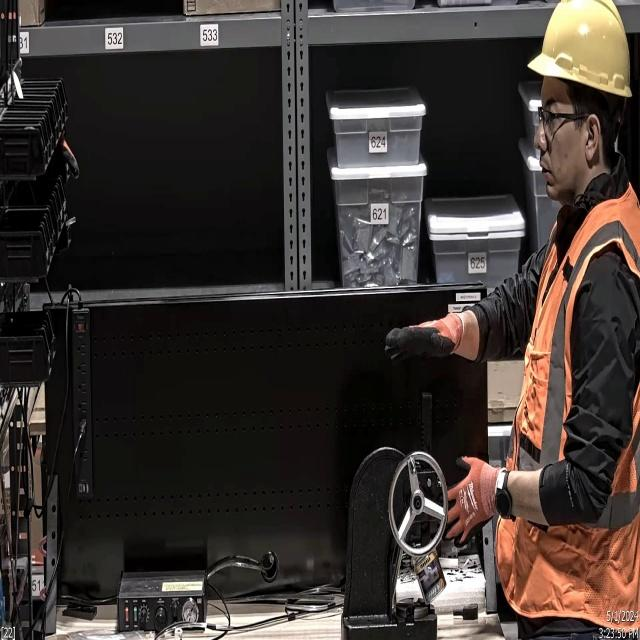gloves: (428, 452, 508, 548), (382, 309, 466, 365)
